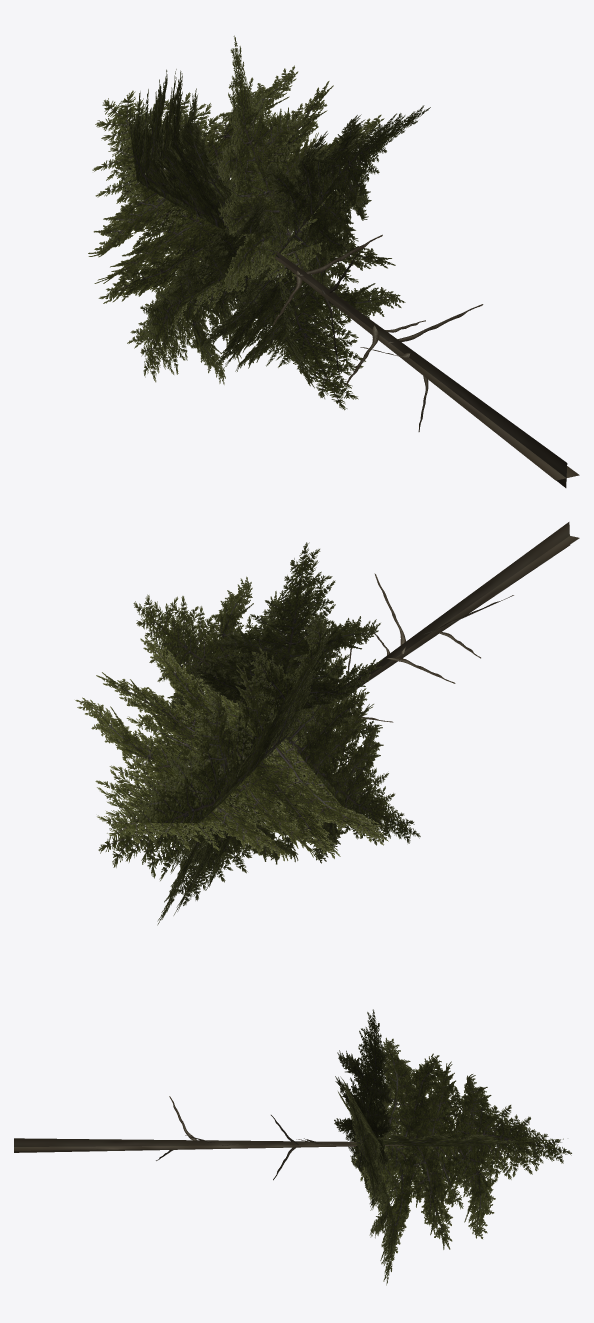
The model's file is MEP_Con_01_e_LOD_01.fbx.
The picture shows the model from 3 angles, top to bottom: view 1: azimuth 30°, elevation 25°; view 2: azimuth 150°, elevation 25°; view 3: azimuth 270°, elevation 25°; orthographic projection. The views are drawn at different scales.
Parts seen in each view (by area): view 1: MEP_Con_01_e_LOD_01; view 2: MEP_Con_01_e_LOD_01; view 3: MEP_Con_01_e_LOD_01.
Part boxes in pixels (x1=…): MEP_Con_01_e_LOD_01: x1=88, y1=35, x2=579, y2=487; MEP_Con_01_e_LOD_01: x1=75, y1=522, x2=579, y2=925; MEP_Con_01_e_LOD_01: x1=14, y1=1009, x2=571, y2=1285.
Bounding box in the file's own units: 11.94 × 14.96 × 29.99.
